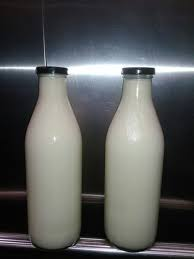milk: (96, 61, 168, 249), (20, 57, 86, 246)
